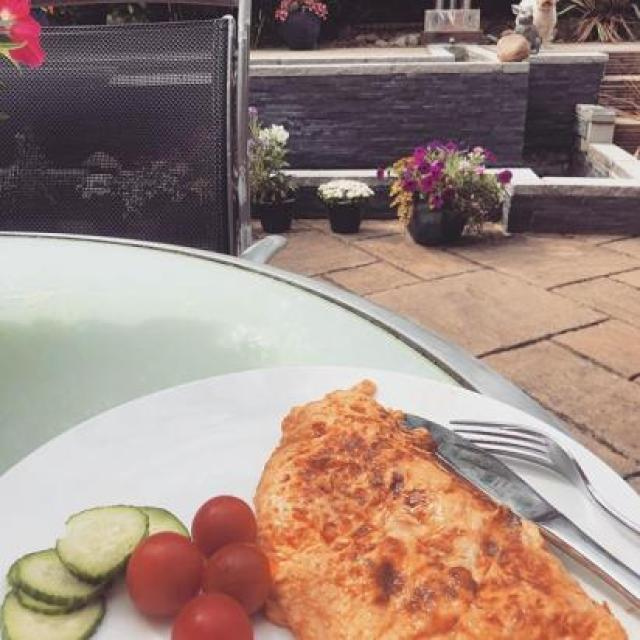omelette: (266, 387, 612, 640)
